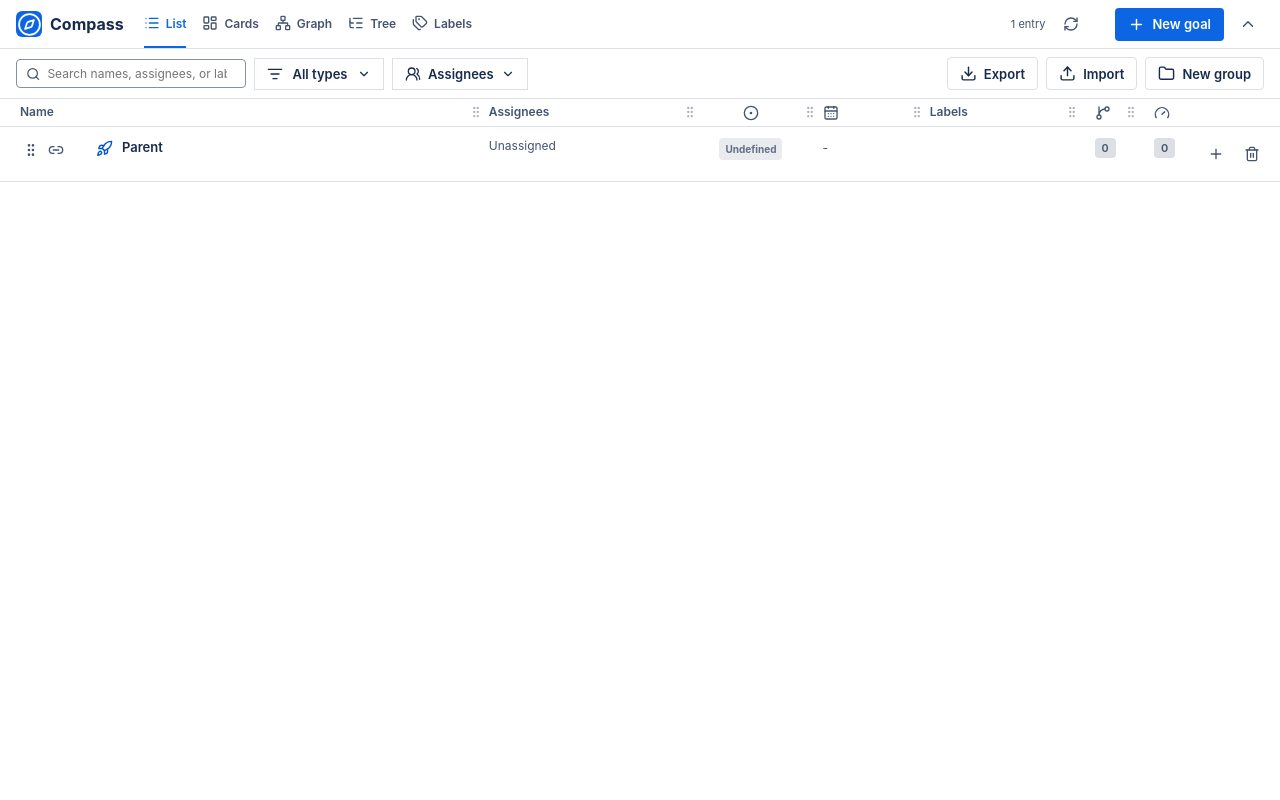
Scenario: given a goal row, its plus shortcut creates a goal beneath that entry
Click the button named "Add goal under Parent". click: point(1216, 154)
box: [1200,138,1232,170]
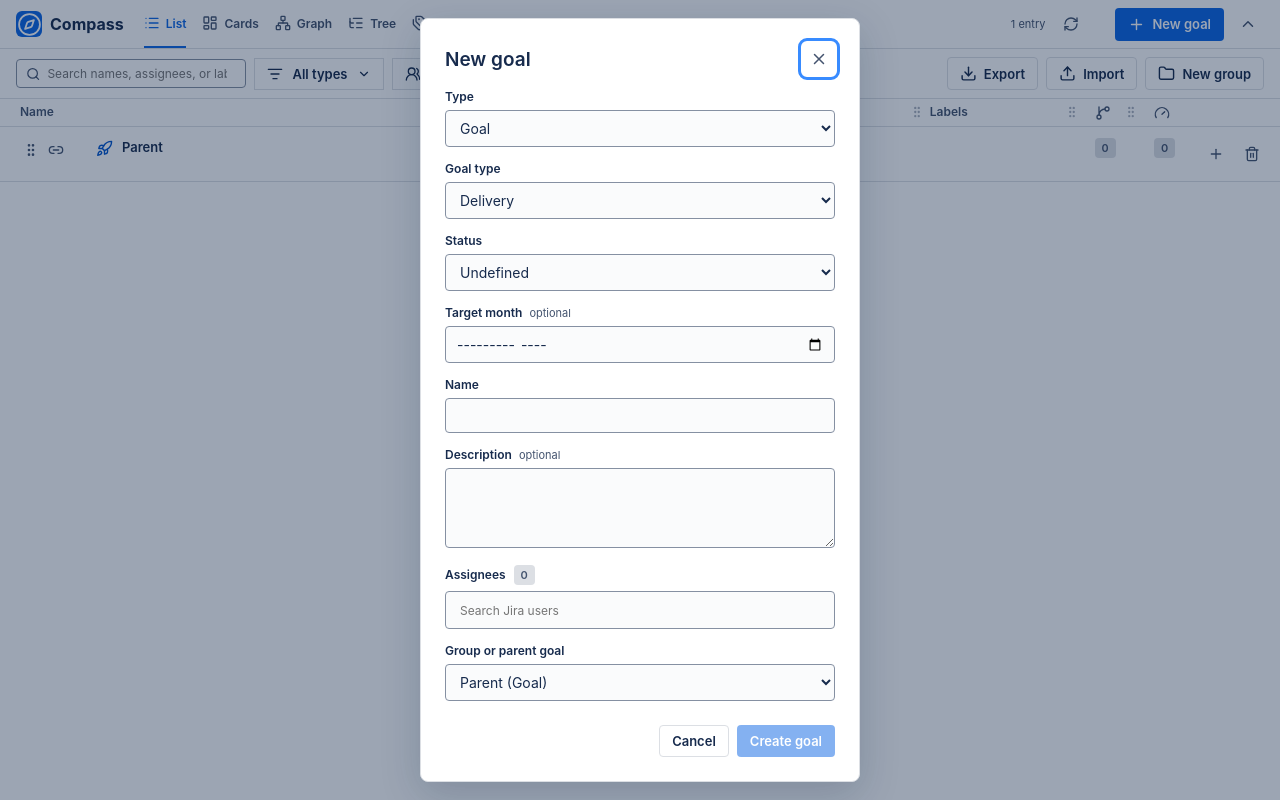
Check: the dropdown with id "new-type" shows "Goal", box [445,110,835,147]
Check: the dropdown with id "new-parent" shows "Parent (Goal)", box [445,664,835,701]
Type "New child" into the field with id "new-name". click: point(640, 416)
box: [445,398,835,433]
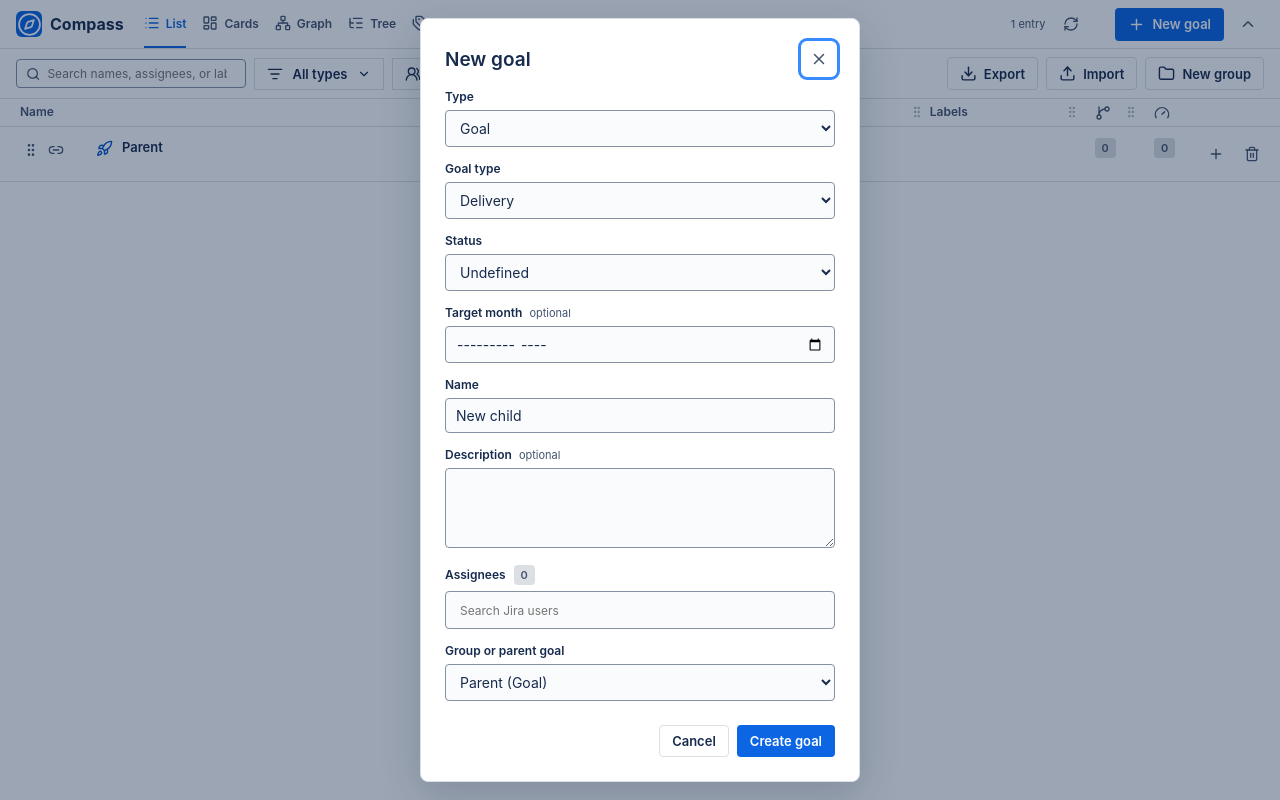
Submit the form, box [445,43,835,757]
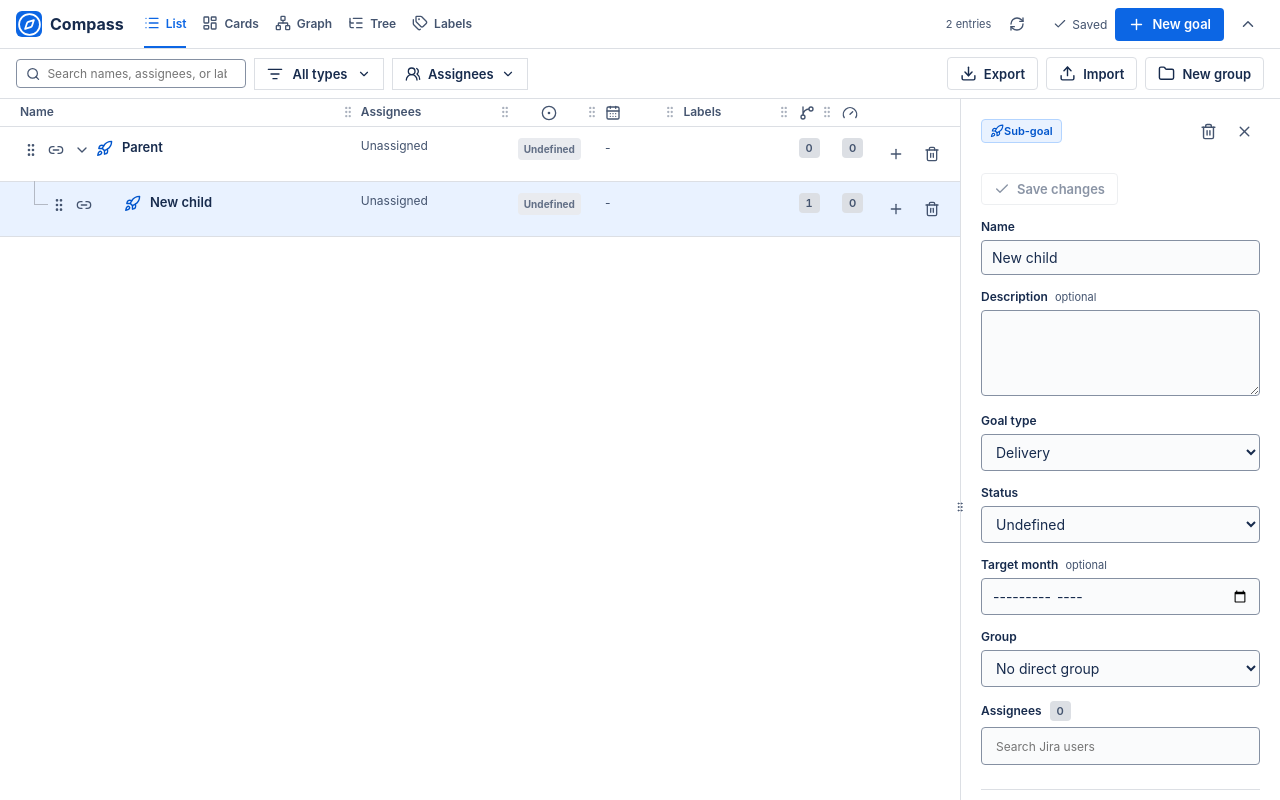
Check: the row "New child Unassigned Undefined - 1 0" is shown, box [0,181,960,236]
